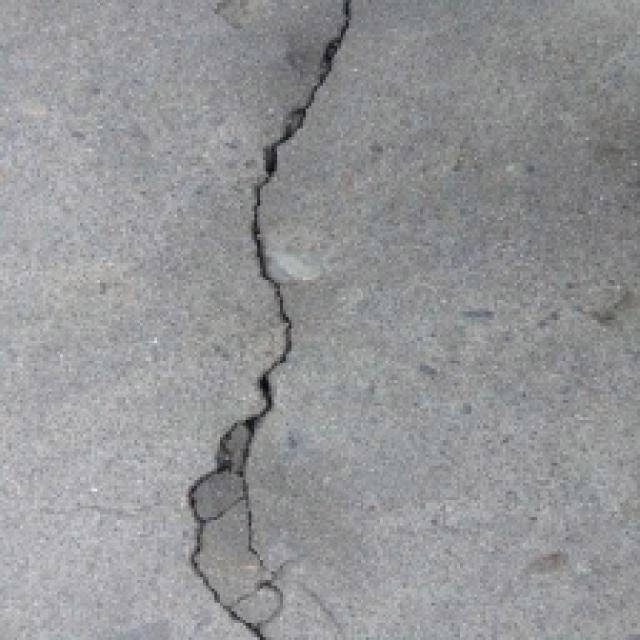crack: (176, 0, 380, 640)
